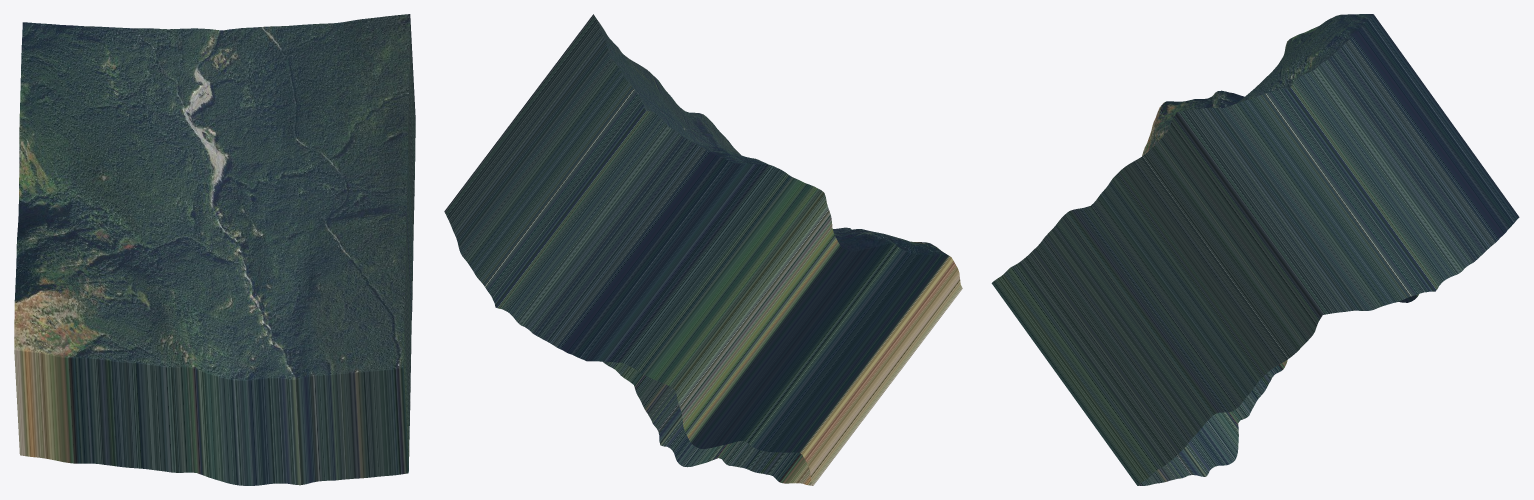
The picture shows the model from 3 angles, left to right: view 1: azimuth 30°, elevation 25°; view 2: azimuth 150°, elevation 25°; view 3: azimuth 270°, elevation 25°; orthographic projection. The views are drawn at different scales.
Bounding box in the file's own units: 6072 × 5389 × 6337.
Materials: 1 (1 with a texture image).
